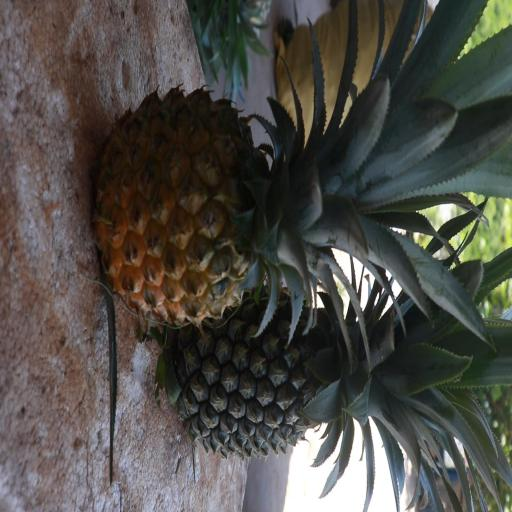Pineapple - v8 v1: (94, 90, 456, 314)
